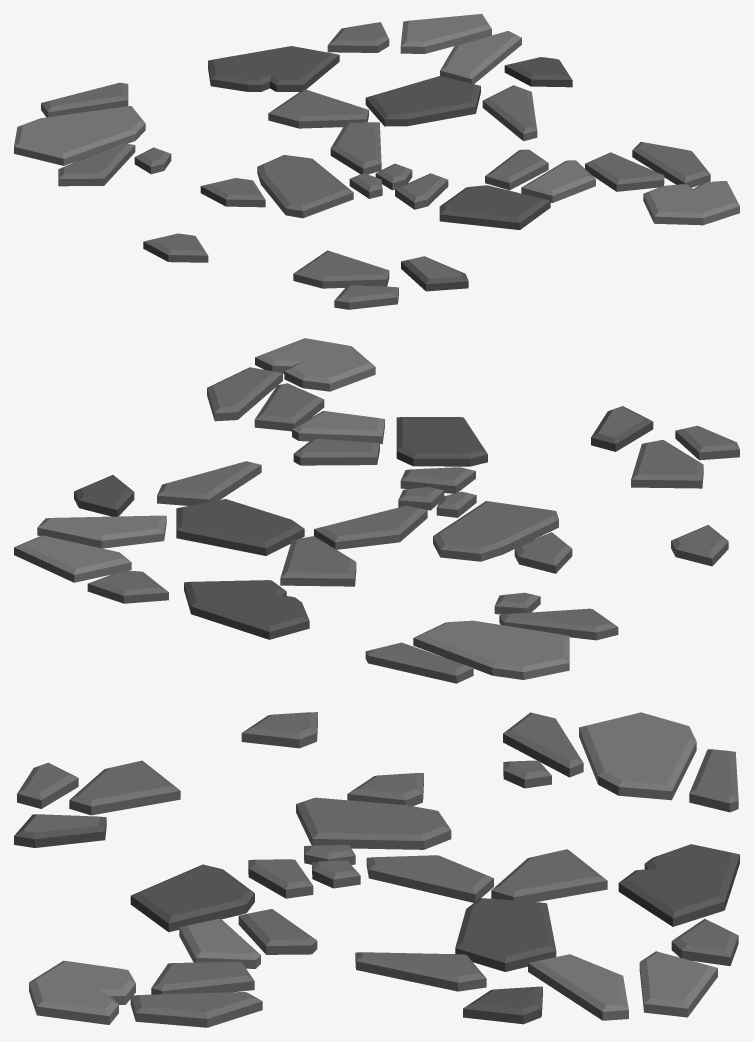
The model's file is SM_Env_Path_Stone_02.gltf.
The picture shows the model from 3 angles, top to bottom: view 1: azimuth 30°, elevation 25°; view 2: azimuth 150°, elevation 25°; view 3: azimuth 270°, elevation 25°; orthographic projection. The views are drawn at different scales.
Visible parts, largest first — view 1: SM_Env_Path_Stone_02; view 2: SM_Env_Path_Stone_02; view 3: SM_Env_Path_Stone_02.
Part boxes in pixels (left/top/right/bottom): SM_Env_Path_Stone_02: left=14, top=14, right=739, bottom=309; SM_Env_Path_Stone_02: left=14, top=338, right=739, bottom=683; SM_Env_Path_Stone_02: left=14, top=712, right=739, bottom=1027.
Bounding box in the file's own units: 2.89 × 0.0539 × 2.89.
Materials: 1 (1 with a texture image).
